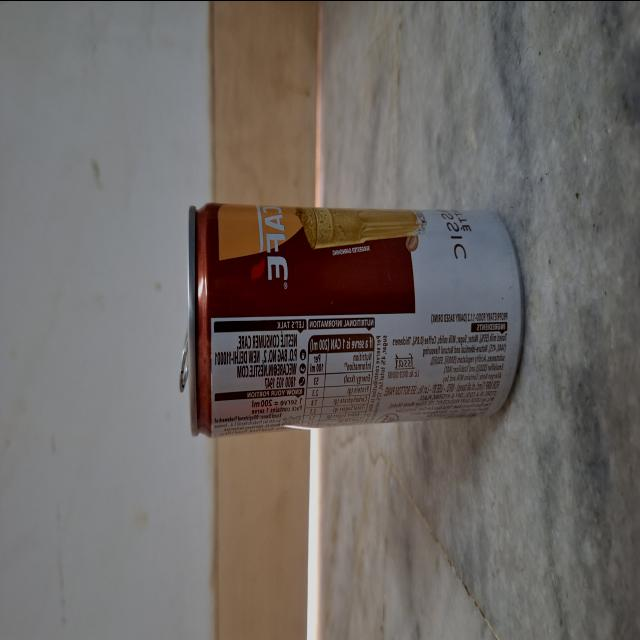Nescafe Classic Iced Latte: (187, 196, 520, 420)
